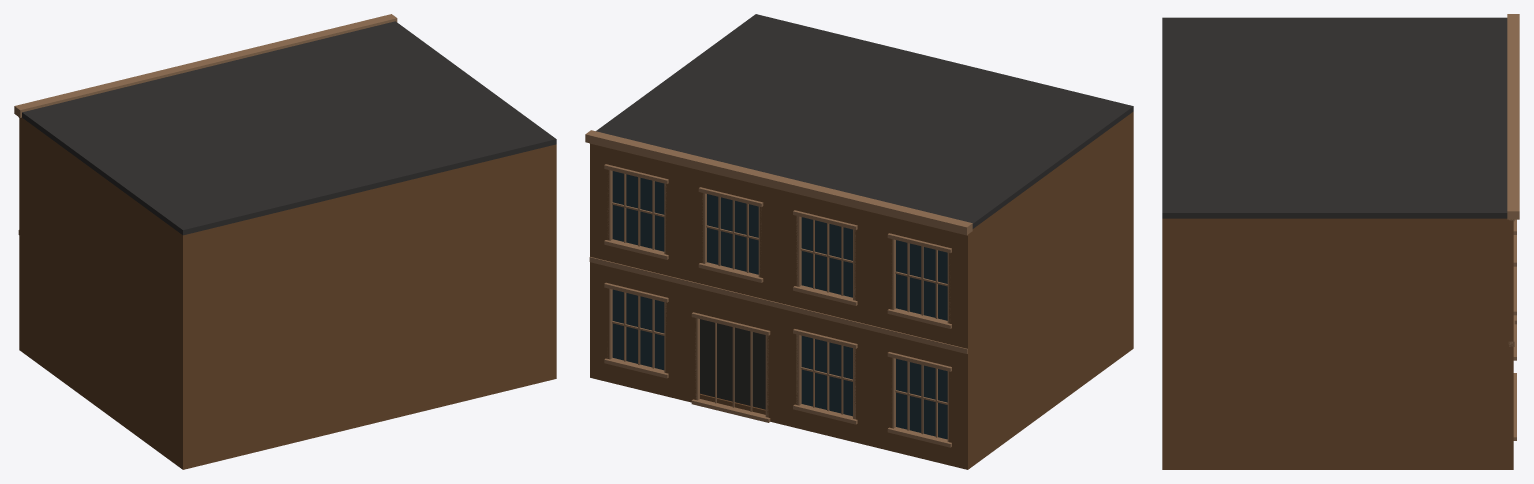
The model's file is warehouse_4b_2f.obj.
3 renders of one model, left to right at view 1: azimuth 30°, elevation 25°; view 2: azimuth 150°, elevation 25°; view 3: azimuth 270°, elevation 25°, orthographic. The views are drawn at different scales.
Parts seen in each view (by area): view 1: rear_1, roof_slab_109, party_wall_2, foundation_0, cornice_108, side_3, wall_pier_55; view 2: roof_slab_109, party_wall_2, cornice_108, loading_door_33, recessed_glass_85, recessed_glass_8, recessed_glass_98, recessed_glass_45, recessed_glass_59, recessed_glass_21, recessed_glass_72, wall_pier_4 (+34 smaller); view 3: side_3, roof_slab_109, cornice_108, rear_1, foundation_0, wall_pier_95, wall_pier_42.
Part boxes in pixels (bbox=[...]): rear_1: bbox=[178, 144, 556, 469]; roof_slab_109: bbox=[22, 21, 556, 235]; party_wall_2: bbox=[21, 118, 190, 469]; foundation_0: bbox=[21, 344, 556, 469]; cornice_108: bbox=[14, 14, 397, 117]; side_3: bbox=[549, 144, 556, 380]; wall_pier_55: bbox=[19, 117, 23, 235]; roof_slab_109: bbox=[596, 14, 1133, 228]; party_wall_2: bbox=[970, 115, 1129, 465]; cornice_108: bbox=[585, 130, 972, 235]; loading_door_33: bbox=[700, 319, 765, 409]; recessed_glass_85: bbox=[707, 194, 758, 274]; recessed_glass_8: bbox=[896, 358, 947, 439]; recessed_glass_98: bbox=[612, 171, 664, 251]; recessed_glass_45: bbox=[612, 289, 664, 370]; recessed_glass_59: bbox=[896, 240, 947, 320]; recessed_glass_21: bbox=[801, 336, 852, 416]; recessed_glass_72: bbox=[801, 217, 852, 297]; wall_pier_4: bbox=[949, 348, 972, 469]; side_3: bbox=[1162, 218, 1508, 469]; roof_slab_109: bbox=[1162, 17, 1507, 218]; cornice_108: bbox=[1507, 14, 1519, 219]; rear_1: bbox=[1162, 218, 1171, 469]; foundation_0: bbox=[1162, 461, 1508, 469]; wall_pier_95: bbox=[1504, 219, 1513, 344]; wall_pier_42: bbox=[1504, 344, 1513, 469].
Size of the model in its own units: 12.12 by 7.44 by 9.28.
